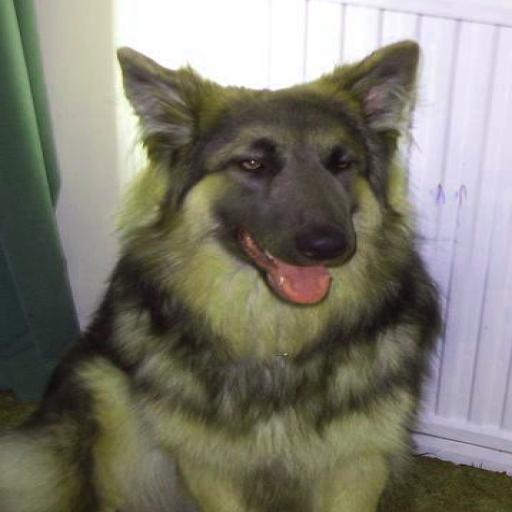dog_face: (116, 37, 425, 302)
